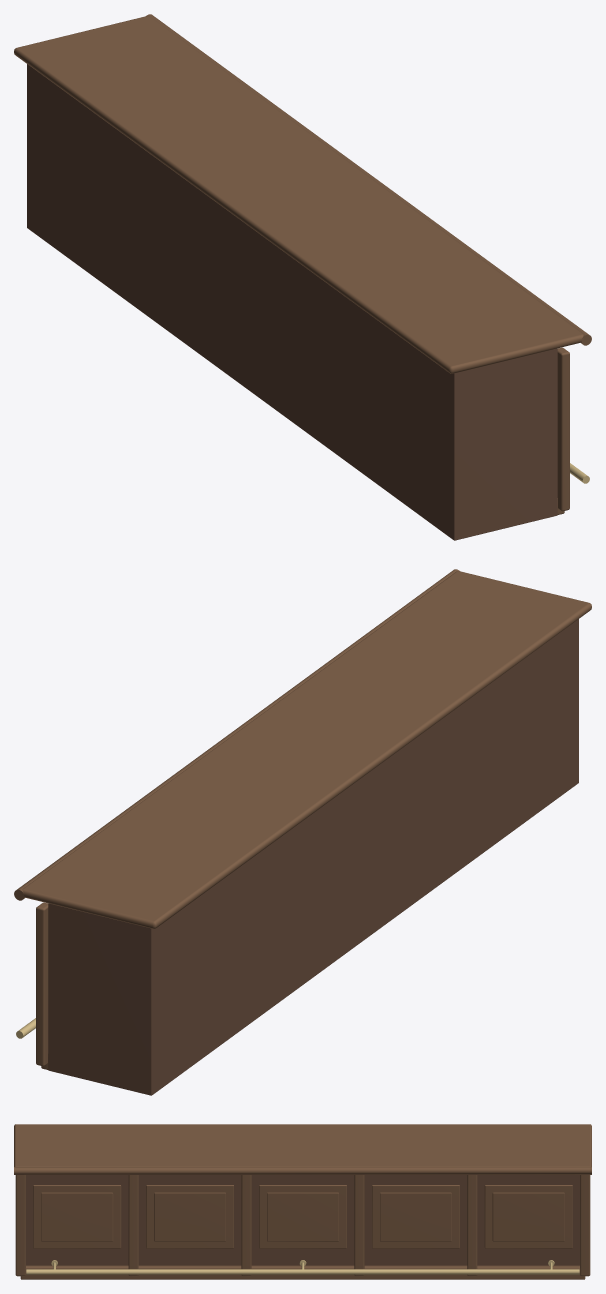
Rendered from lp_bar_counter.glb.
The picture shows the model from 3 angles, top to bottom: view 1: azimuth 30°, elevation 25°; view 2: azimuth 150°, elevation 25°; view 3: azimuth 270°, elevation 25°; orthographic projection. The views are drawn at different scales.
Parts seen in each view (by area): view 1: lp_bar_counter; view 2: lp_bar_counter; view 3: lp_bar_counter.
Boxes of the visible parts, left/top/right/bottom form: lp_bar_counter: left=14, top=14, right=591, bottom=540; lp_bar_counter: left=14, top=569, right=591, bottom=1095; lp_bar_counter: left=14, top=1124, right=591, bottom=1279.
Size of the model in its own units: 1 by 1.15 by 5.12.
